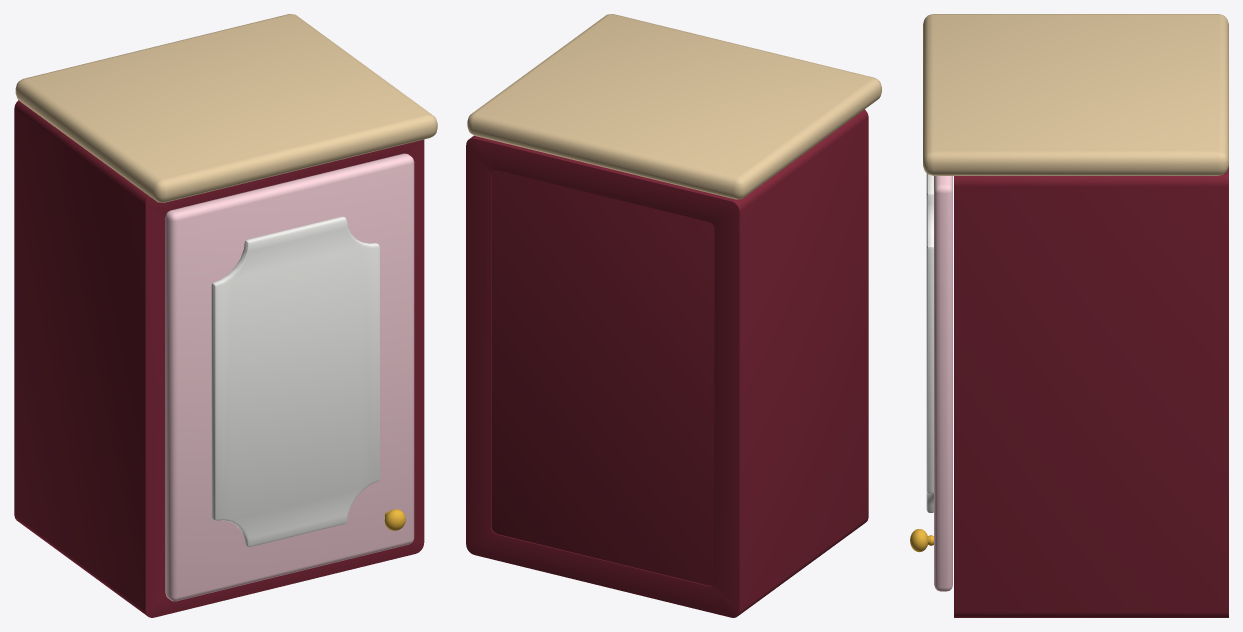
File: armario_parede_1porta_classica_vinho.glb
3 renders of one model, left to right at view 1: azimuth 30°, elevation 25°; view 2: azimuth 150°, elevation 25°; view 3: azimuth 270°, elevation 25°, orthographic. The views are drawn at different scales.
Parts seen in each view (by area): view 1: armario_parede_1porta_classica_vinho, porta_1; view 2: armario_parede_1porta_classica_vinho; view 3: armario_parede_1porta_classica_vinho, porta_1.
Boxes of the visible parts, x1,y1,x2,y2 form: armario_parede_1porta_classica_vinho: (14, 14, 437, 617); porta_1: (165, 153, 414, 601); armario_parede_1porta_classica_vinho: (466, 14, 881, 617); armario_parede_1porta_classica_vinho: (923, 14, 1228, 617); porta_1: (910, 173, 952, 591).
Bounding box in the file's own units: 0.398 × 0.6 × 0.3711.
1 material, 1 textured.
